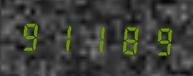eight: (111, 20, 141, 57)
nine: (18, 17, 48, 54), (142, 21, 172, 58)
one: (49, 18, 79, 55), (80, 19, 110, 56)
